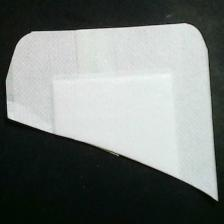Cut: (4, 20, 224, 210)
